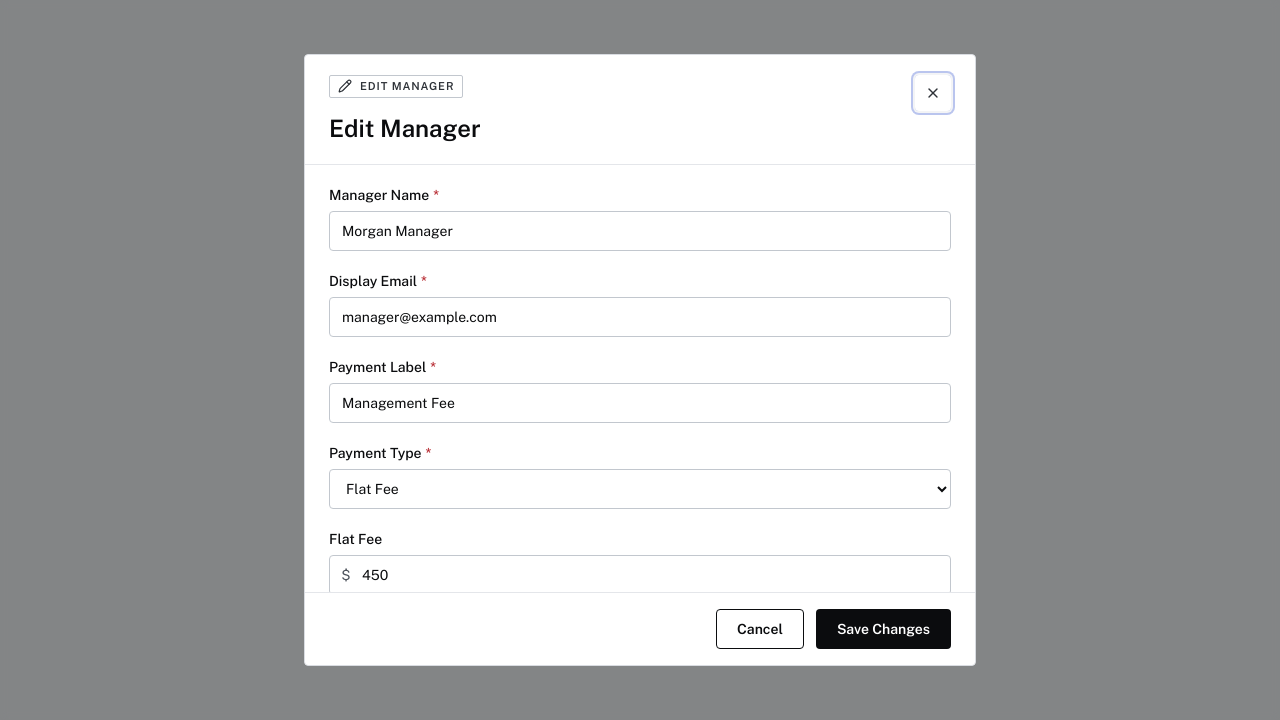
EntityEditModal › switches manager payment fields when the payment type changes
Expected: the number field labelled "Flat Fee" is shown, x1=329 y1=555 x2=951 y2=592
Expected: the number field labelled "percentage rate" is not shown
Select "Percentage of Rent" in the dropdown labelled "Payment Type*" at (640, 489), box x1=329 y1=469 x2=951 y2=509
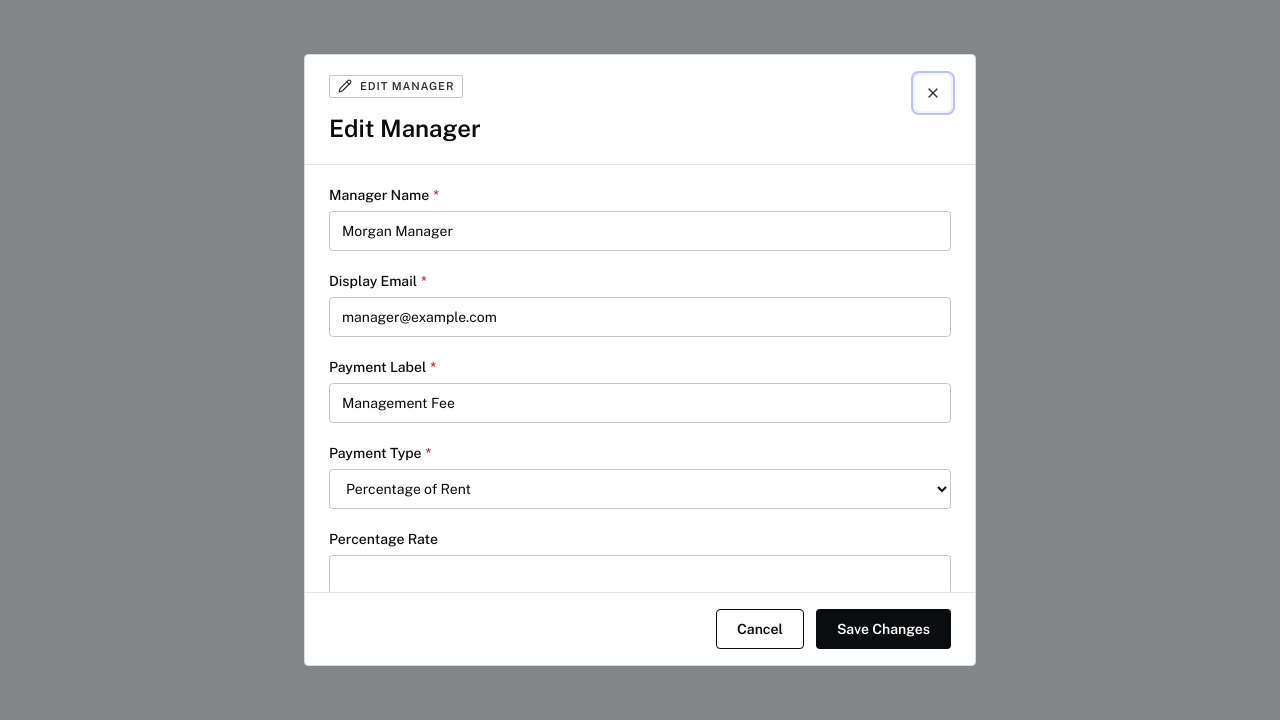
Expected: the number field labelled "Percentage Rate" is shown, x1=329 y1=555 x2=951 y2=592
Expected: the label "Flat Fee" is gone
